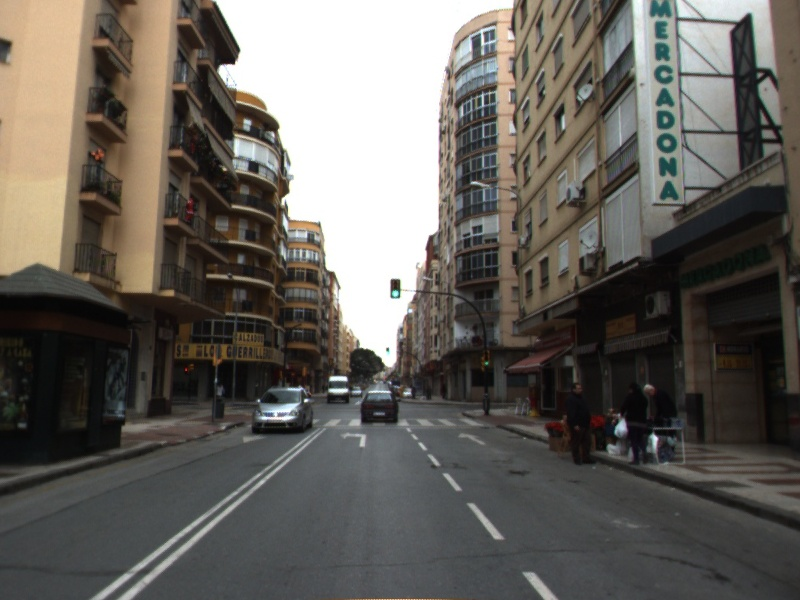LEFT: (338, 429, 368, 449)
STRAIGHT: (456, 430, 488, 447)
